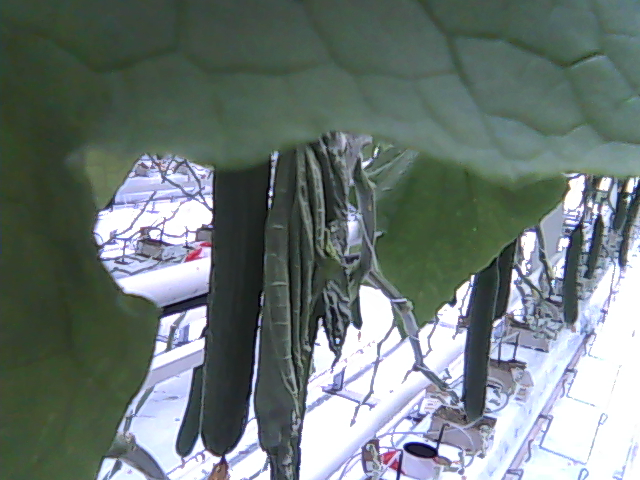concombre: (198, 161, 272, 480), (462, 270, 497, 422), (494, 240, 516, 323)
